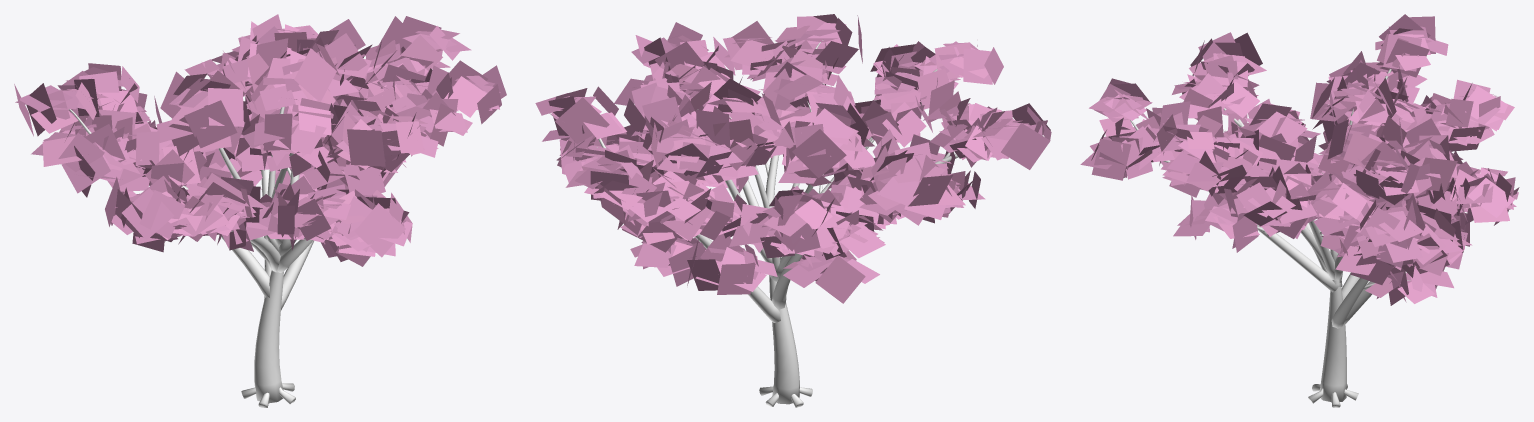
The model's file is SM_Sakura_Hero_LOD0.fbx.
3 renders of one model, left to right at view 1: azimuth 30°, elevation 25°; view 2: azimuth 150°, elevation 25°; view 3: azimuth 270°, elevation 25°, orthographic. The views are drawn at different scales.
Visible parts, largest first — view 1: SM_Sakura_Hero_LOD0; view 2: SM_Sakura_Hero_LOD0; view 3: SM_Sakura_Hero_LOD0.
Part boxes in pixels (x1,y1,x2,y2): SM_Sakura_Hero_LOD0: (14,14,506,407); SM_Sakura_Hero_LOD0: (535,14,1051,407); SM_Sakura_Hero_LOD0: (1080,14,1519,407).
Size of what is drawn, in the model's own units: 10.31 by 9.62 by 7.27.
